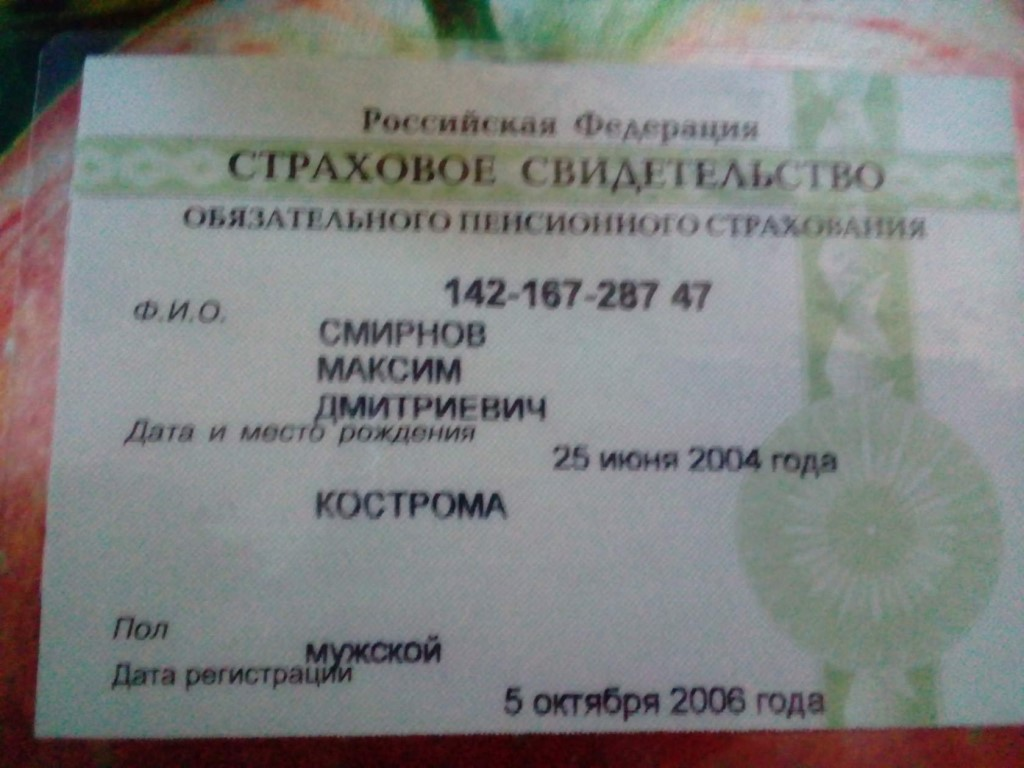text: (493, 677, 831, 723), (548, 439, 856, 484), (432, 272, 717, 311), (302, 482, 521, 529), (304, 389, 561, 429), (303, 312, 505, 351), (288, 630, 455, 666), (303, 354, 475, 388)
